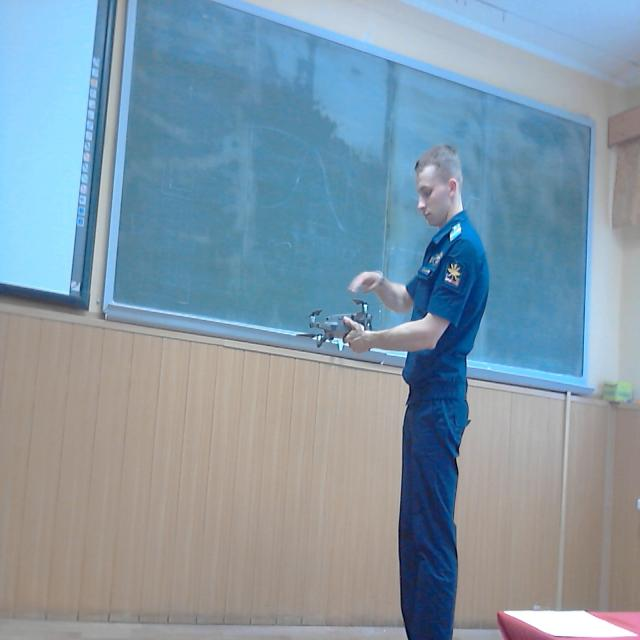drone: (295, 289, 387, 372)
